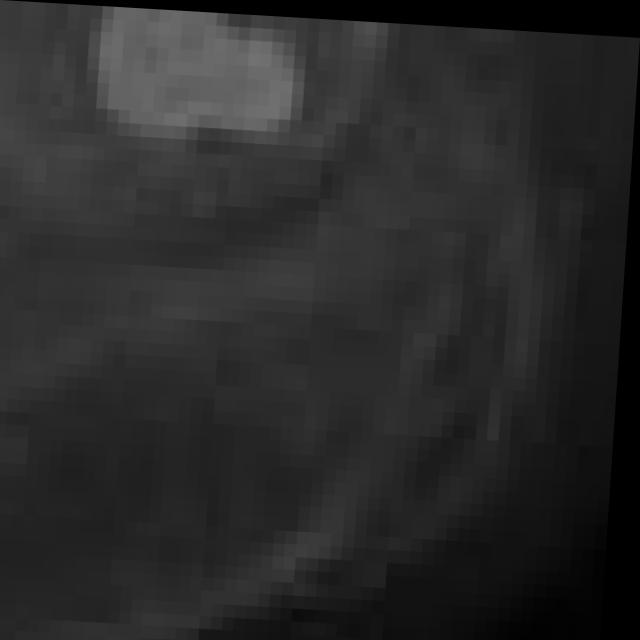fracture: (0, 28, 625, 640)
